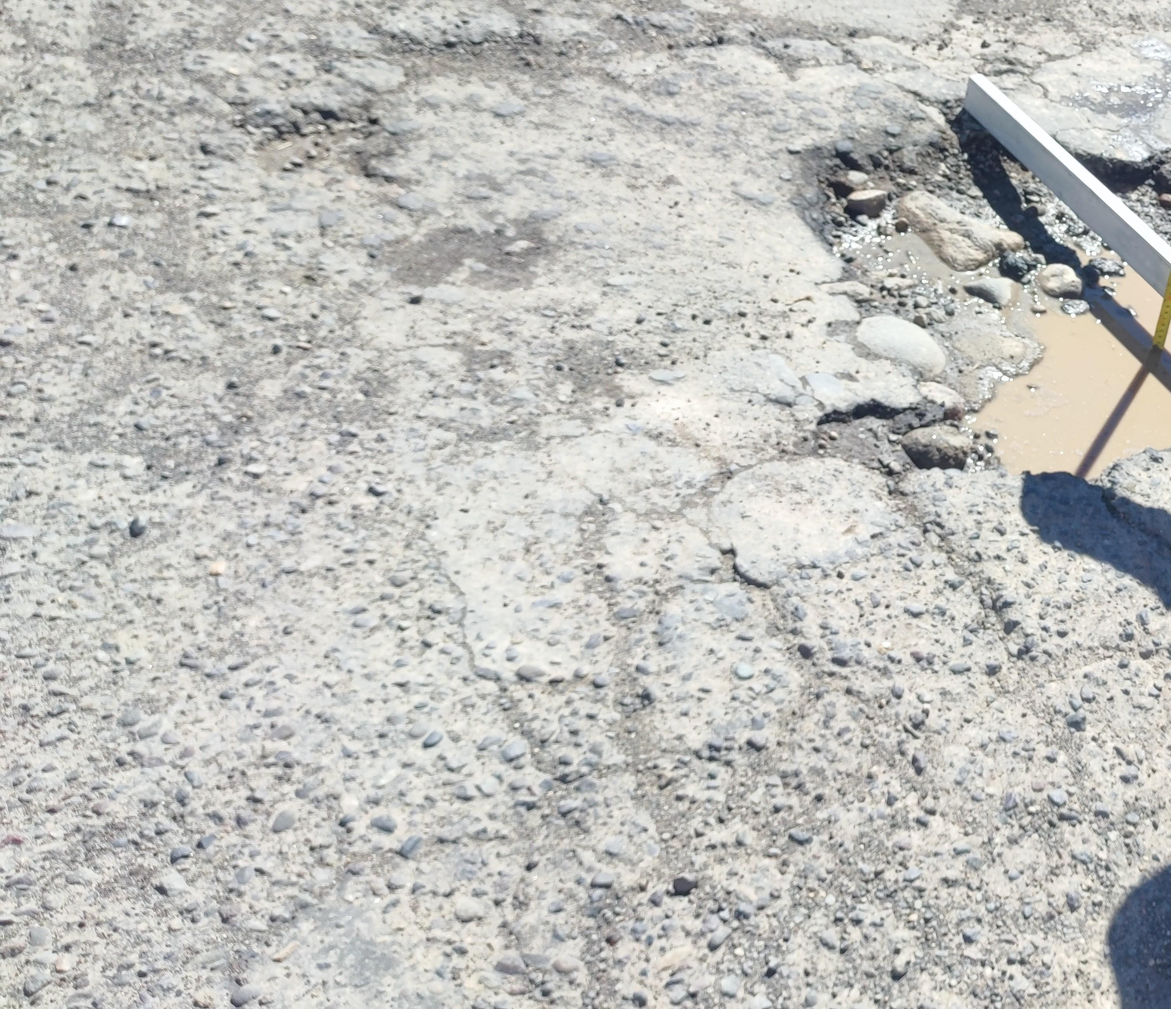BACHE: (815, 119, 1171, 476), (1069, 152, 1171, 250), (257, 106, 379, 176), (406, 34, 571, 82)
PIEL DE COCODRILO: (198, 436, 1166, 1009), (641, 0, 1144, 160)
